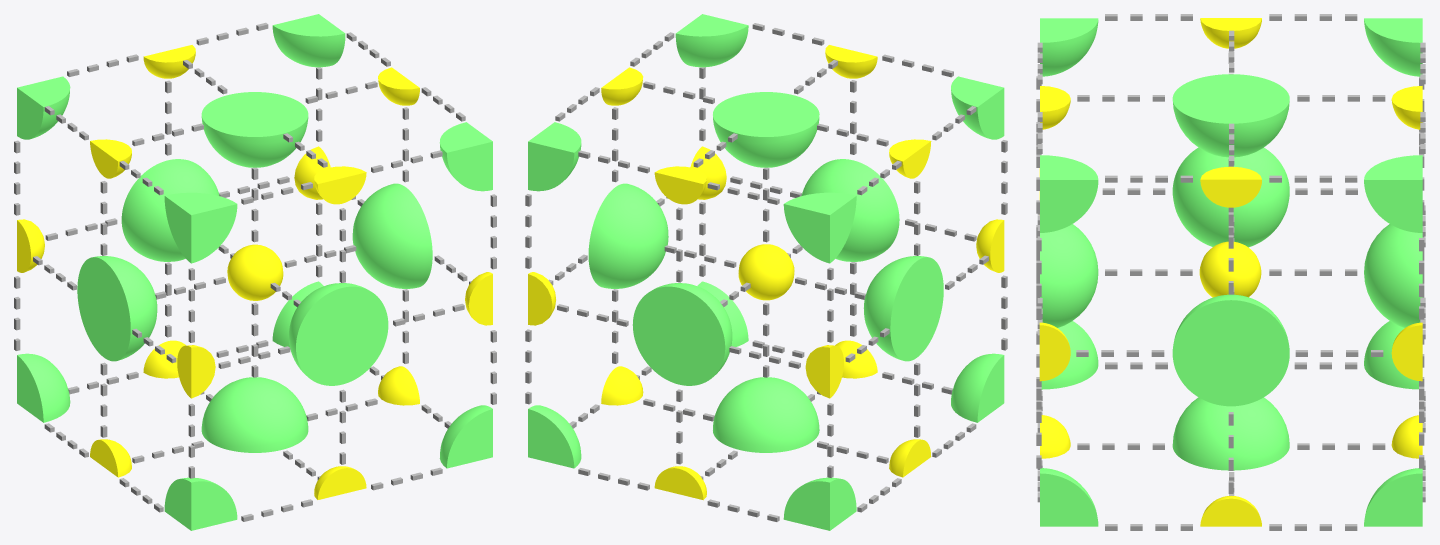
The model's file is na_cl_no_animation.gltf.
3 views of the same model, side by side, from view 1: azimuth 30°, elevation 25°; view 2: azimuth 150°, elevation 25°; view 3: azimuth 270°, elevation 25° (orthographic). The views are drawn at different scales.
Parts seen in each view (by area): view 1: polySurface54, polySurface57, polySurface41, polySurface40, polySurface10, polySurface60, polySurface16, polySurface50, polySurface58, polySurface47, polySurface56, polySurface48 (+15 smaller); view 2: polySurface60, polySurface57, polySurface41, polySurface40, polySurface10, polySurface54, polySurface2, polySurface56, polySurface47, polySurface58, polySurface50, polySurface49 (+15 smaller); view 3: polySurface57, polySurface10, polySurface41, polySurface40, polySurface54, polySurface60, polySurface50, polySurface56, polySurface49, polySurface48, polySurface2, pSphere36 (+12 smaller).
Boxes of the visible parts, x1=… form: polySurface54: x1=288, y1=283, x2=388, y2=385; polySurface57: x1=352, y1=183, x2=432, y2=288; polySurface41: x1=77, y1=256, x2=157, y2=361; polySurface40: x1=201, y1=377, x2=308, y2=452; polySurface10: x1=201, y1=92, x2=308, y2=167; polySurface60: x1=121, y1=159, x2=219, y2=261; polySurface16: x1=164, y1=192, x2=237, y2=263; polySurface50: x1=272, y1=14, x2=345, y2=67; polySurface58: x1=164, y1=477, x2=237, y2=530; polySurface47: x1=17, y1=353, x2=70, y2=422; polySurface56: x1=439, y1=122, x2=492, y2=191; polySurface48: x1=439, y1=405, x2=492, y2=468; polySurface60: x1=632, y1=283, x2=732, y2=385; polySurface57: x1=588, y1=183, x2=668, y2=288; polySurface41: x1=863, y1=256, x2=943, y2=361; polySurface40: x1=713, y1=377, x2=819, y2=452; polySurface10: x1=713, y1=92, x2=819, y2=167; polySurface54: x1=801, y1=159, x2=899, y2=261; polySurface2: x1=783, y1=192, x2=856, y2=263; polySurface56: x1=675, y1=14, x2=748, y2=67; polySurface47: x1=783, y1=477, x2=856, y2=530; polySurface58: x1=951, y1=353, x2=1004, y2=422; polySurface50: x1=528, y1=122, x2=581, y2=191; polySurface49: x1=528, y1=405, x2=581, y2=468; polySurface57: x1=1172, y1=294, x2=1289, y2=406; polySurface10: x1=1172, y1=74, x2=1289, y2=157; polySurface41: x1=1172, y1=147, x2=1289, y2=247; polySurface40: x1=1172, y1=397, x2=1289, y2=470; polySurface54: x1=1040, y1=224, x2=1098, y2=327; polySurface60: x1=1364, y1=224, x2=1422, y2=327; polySurface50: x1=1364, y1=155, x2=1422, y2=232; polySurface56: x1=1040, y1=155, x2=1098, y2=232; polySurface49: x1=1364, y1=468, x2=1422, y2=526; polySurface48: x1=1040, y1=468, x2=1098, y2=526; polySurface2: x1=1364, y1=18, x2=1422, y2=76; pSphere36: x1=1199, y1=241, x2=1261, y2=297.
Size of the model in its own units: 74.93 by 75.14 by 75.05.
